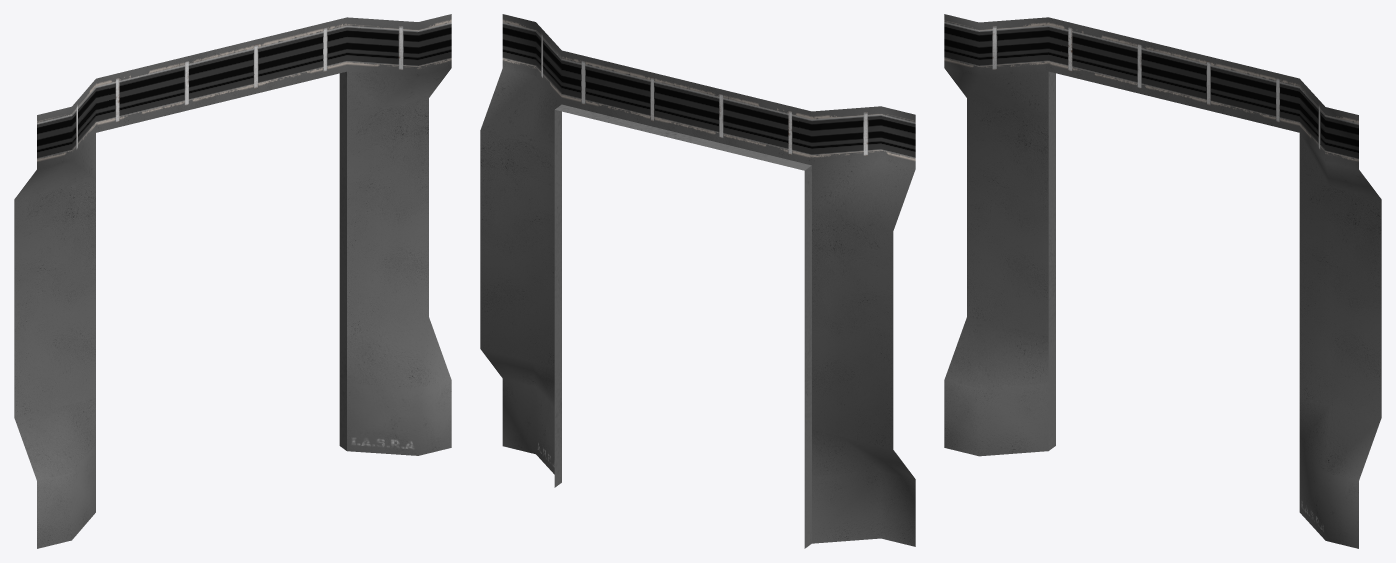
The model's file is Doorway_Hall.fbx.
3 renders of one model, left to right at view 1: azimuth 30°, elevation 25°; view 2: azimuth 150°, elevation 25°; view 3: azimuth 330°, elevation 25°, orthographic.
Parts seen in each view (by area): view 1: Doorway_4x4m_Hallway; view 2: Doorway_4x4m_Hallway; view 3: Doorway_4x4m_Hallway.
Boxes of the visible parts, <box> form: Doorway_4x4m_Hallway: <box>14,14,451,548</box>; Doorway_4x4m_Hallway: <box>480,14,915,548</box>; Doorway_4x4m_Hallway: <box>944,14,1381,548</box>.
Bounding box in the file's own units: 400 × 400 × 50.
Materials: 1 (1 with a texture image).
